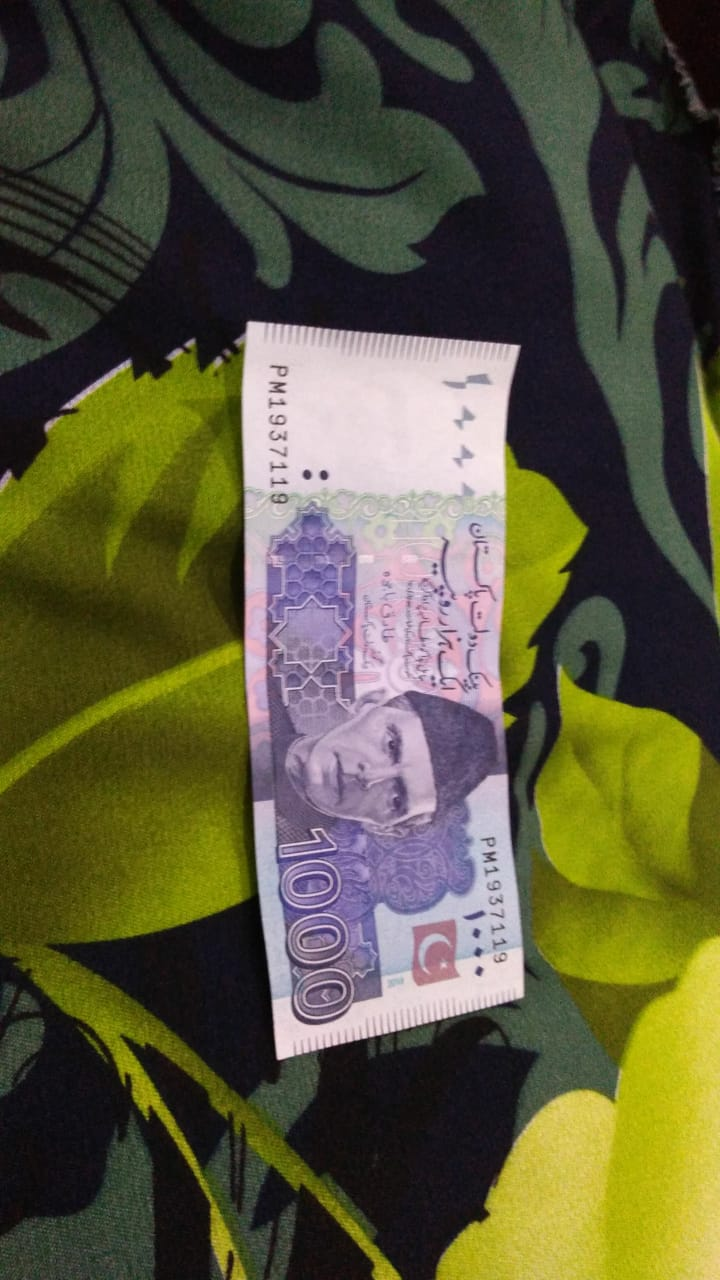1000 rupee: (205, 300, 551, 1062)
